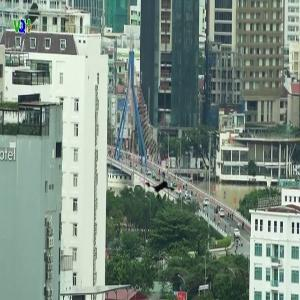drone: (139, 159, 184, 204)
